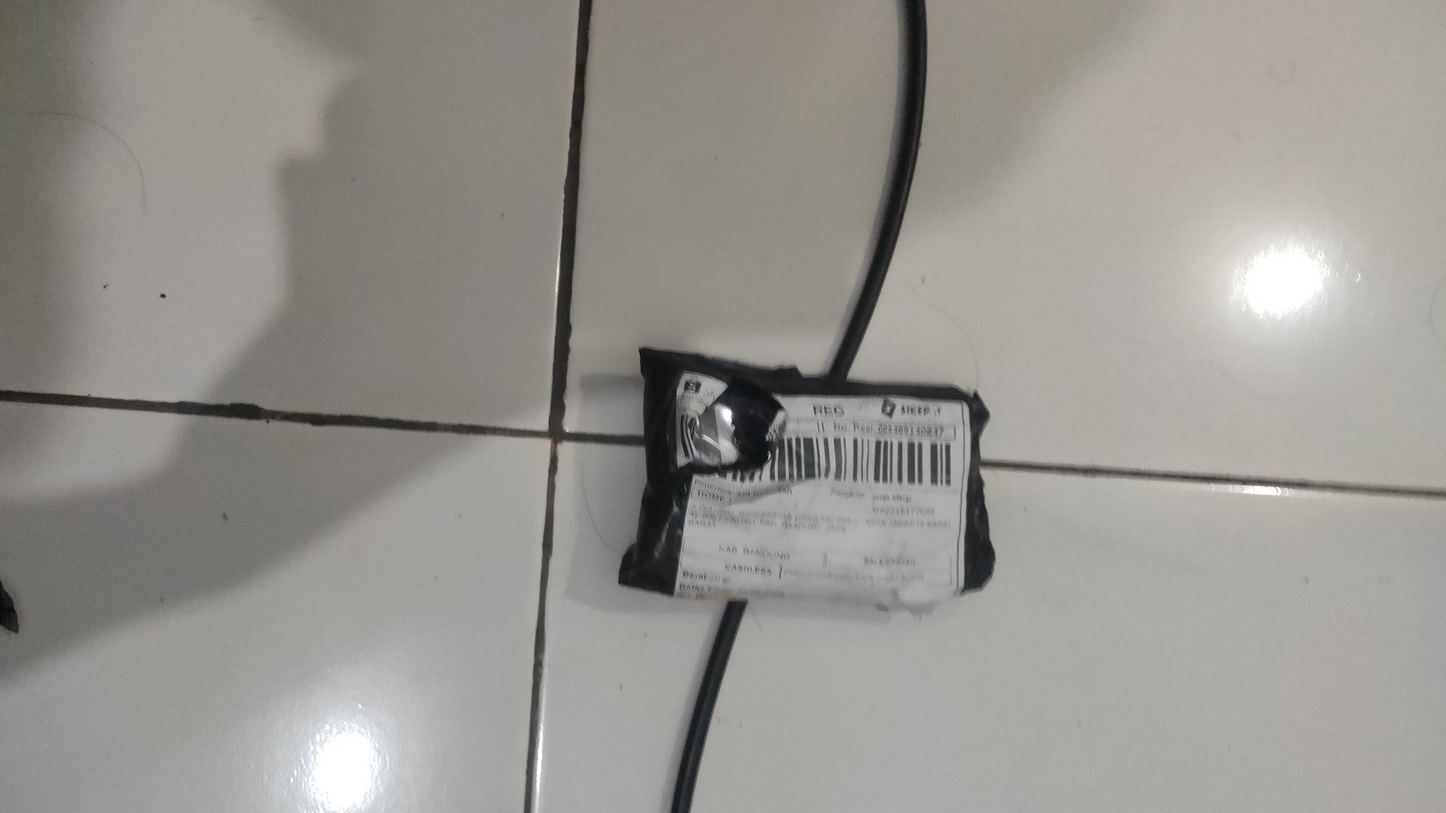damaged package: (681, 377, 790, 476)
undamaged: (615, 349, 997, 616)
